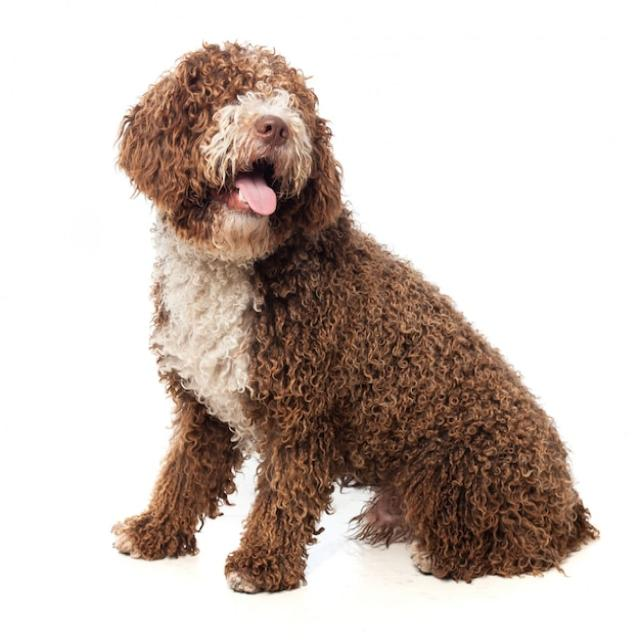Dog: (113, 38, 598, 592)
